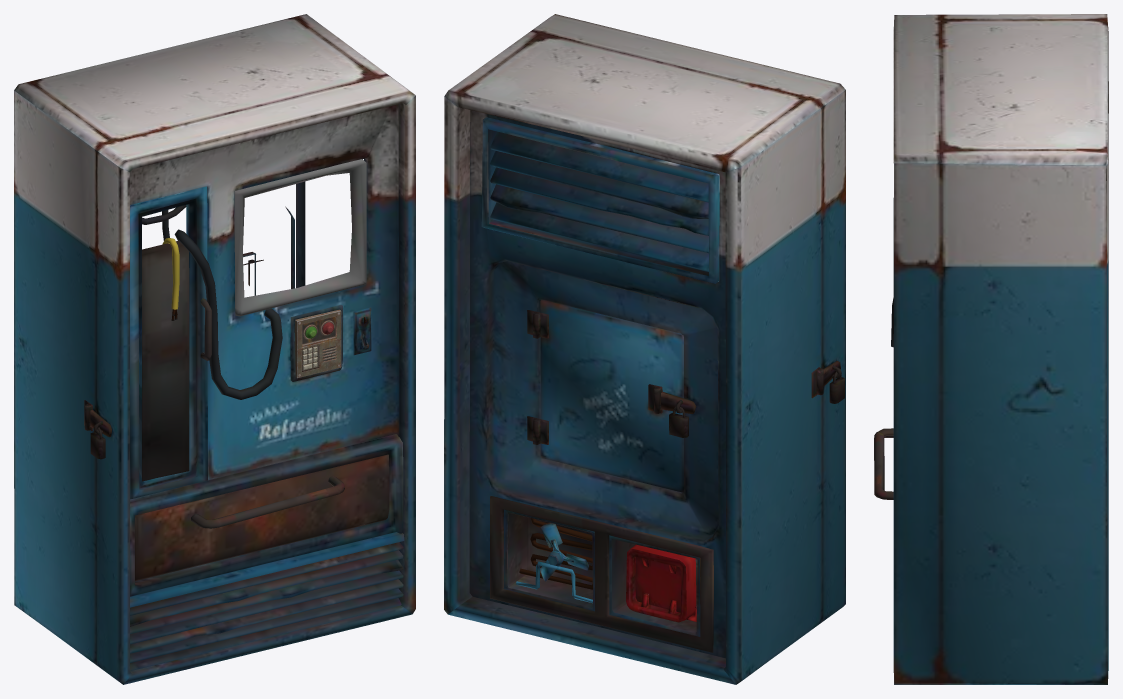
File: npcvendingmachine_hapis_hapis.glb
3 views of the same model, side by side, from view 1: azimuth 30°, elevation 25°; view 2: azimuth 150°, elevation 25°; view 3: azimuth 270°, elevation 25° (orthographic).
Parts seen in each view (by area): view 1: vendingmachine_LOD0, keypad_LOD0; view 2: vendingmachine_LOD0; view 3: vendingmachine_LOD0.
Part boxes in pixels (x1,y1,x2,y2): vendingmachine_LOD0: [14, 14, 415, 684]; keypad_LOD0: [294, 309, 341, 378]; vendingmachine_LOD0: [444, 14, 845, 684]; vendingmachine_LOD0: [874, 14, 1108, 684].
Size of the model in its own units: 1.32 by 2.15 by 0.8632.
3 materials, 2 textured.
